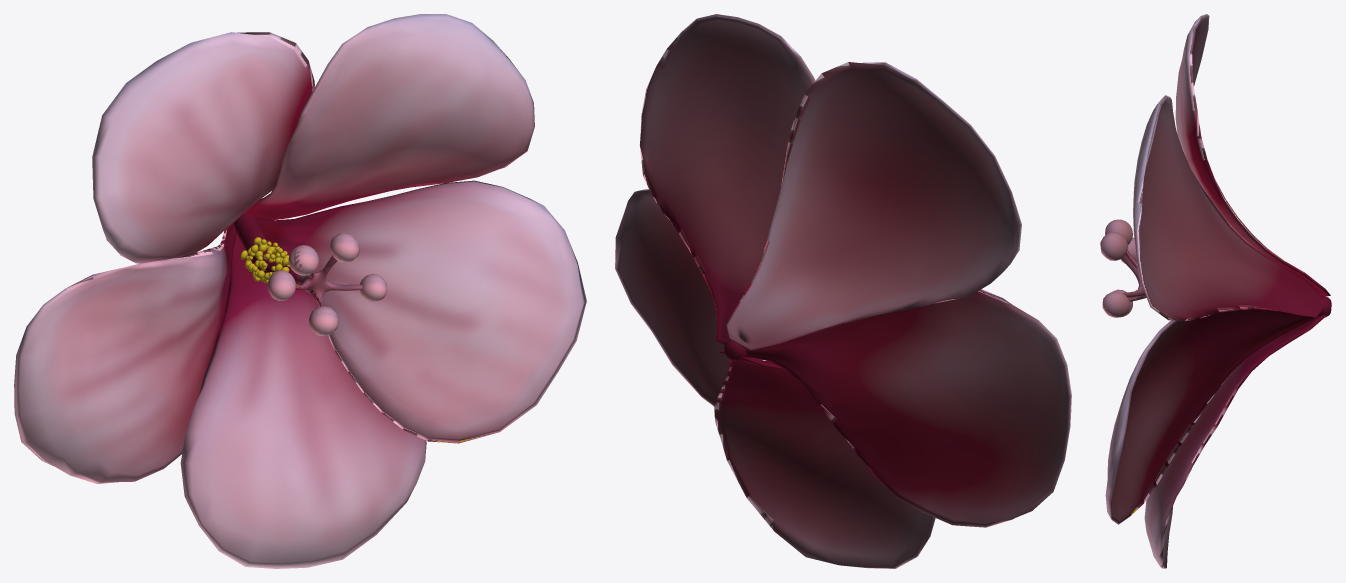
3 views of the same model, side by side, from view 1: azimuth 30°, elevation 25°; view 2: azimuth 150°, elevation 25°; view 3: azimuth 270°, elevation 25° (orthographic). The views are drawn at different scales.
Visible parts, largest first — view 1: PM3D_Cube3D_4.001; view 2: PM3D_Cube3D_4.001; view 3: PM3D_Cube3D_4.001.
Boxes of the visible parts, x1=… form: PM3D_Cube3D_4.001: x1=14, y1=14, x2=586, y2=568; PM3D_Cube3D_4.001: x1=615, y1=14, x2=1071, y2=568; PM3D_Cube3D_4.001: x1=1100, y1=14, x2=1331, y2=568.
Bounding box in the file's own units: 1.28 × 1.28 × 0.5365.
Materials: 1 (1 with a texture image).
